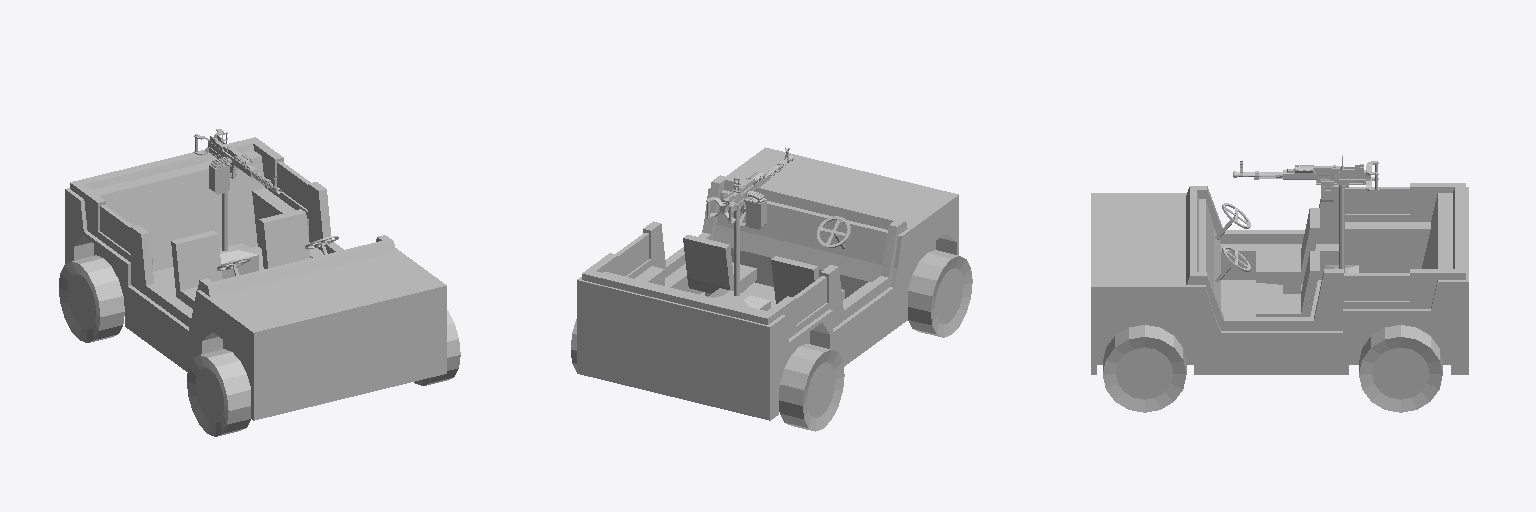
The model's file is jeep_machinegun.obj.
3 renders of one model, left to right at view 1: azimuth 30°, elevation 25°; view 2: azimuth 150°, elevation 25°; view 3: azimuth 270°, elevation 25°, orthographic.
Parts seen in each view (by area): view 1: Hull_Cube.001; view 2: Hull_Cube.001; view 3: Hull_Cube.001.
Boxes of the visible parts, box(x1,y1,x2,y2) form: Hull_Cube.001: box(59, 129, 460, 436); Hull_Cube.001: box(571, 147, 972, 431); Hull_Cube.001: box(1091, 155, 1468, 412).
Size of the model in its own units: 2.64 by 2.18 by 3.72.